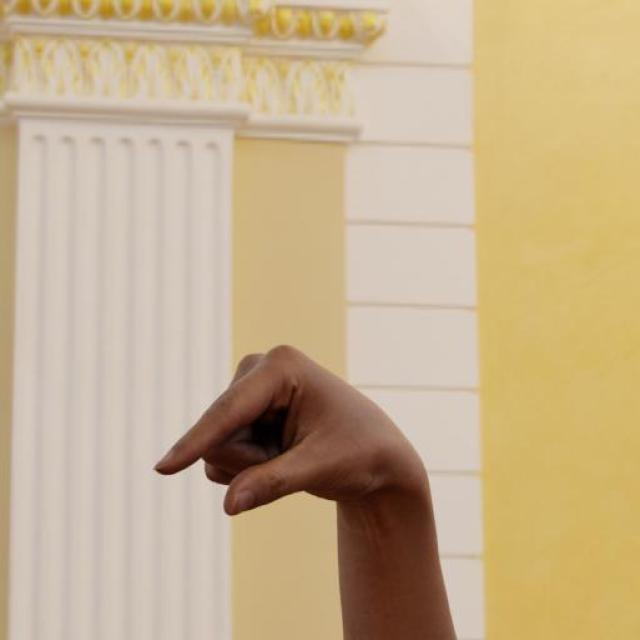Q: (151, 342, 440, 518)
